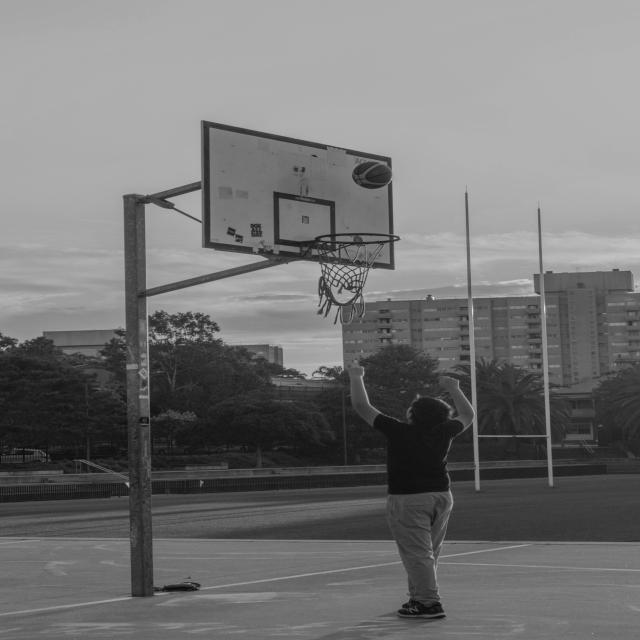backboard: (203, 121, 393, 268)
